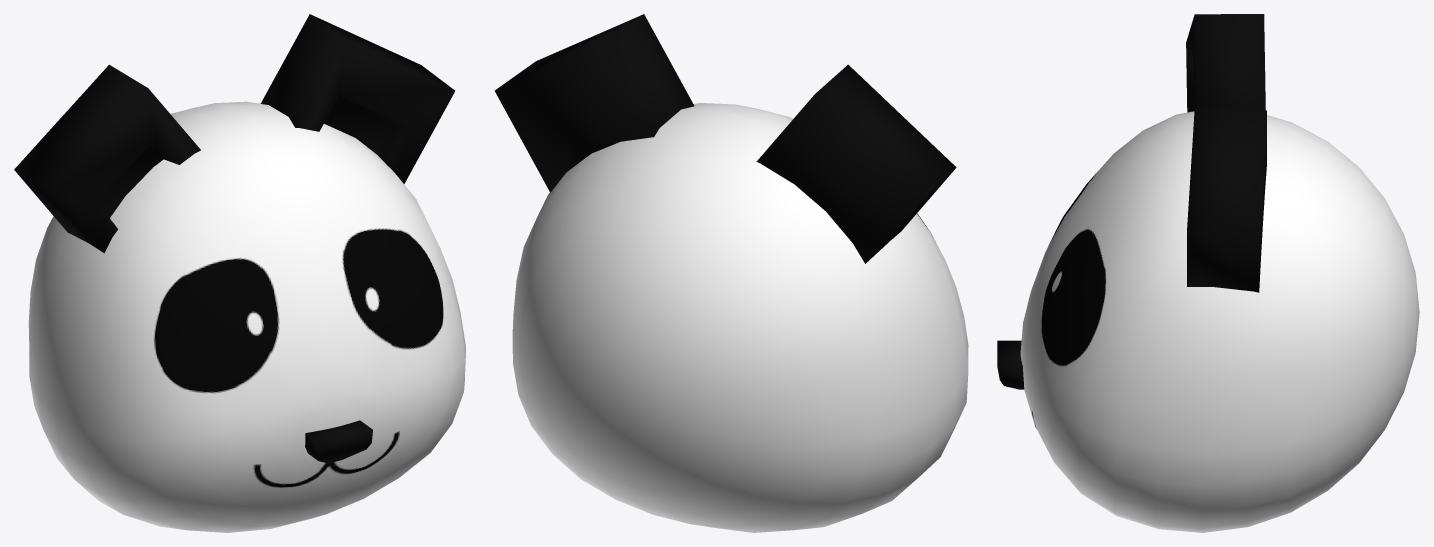
Rendered from panda_happy.gltf.
The picture shows the model from 3 angles, left to right: view 1: azimuth 30°, elevation 25°; view 2: azimuth 150°, elevation 25°; view 3: azimuth 270°, elevation 25°; orthographic projection. The views are drawn at different scales.
Parts seen in each view (by area): view 1: Sphere.056, Cube.150, Cube.149, Cube.148; view 2: Sphere.056, Cube.150, Cube.149; view 3: Sphere.056, Cube.149, Cube.150, Cube.148.
Part boxes in pixels (x1=…): Sphere.056: x1=28, y1=101, x2=465, y2=532; Cube.150: x1=14, y1=64, x2=200, y2=253; Cube.149: x1=260, y1=14, x2=454, y2=183; Cube.148: x1=305, y1=420, x2=372, y2=463; Sphere.056: x1=512, y1=103, x2=968, y2=532; Cube.150: x1=756, y1=64, x2=956, y2=263; Cube.149: x1=494, y1=14, x2=694, y2=192; Sphere.056: x1=1020, y1=111, x2=1419, y2=532; Cube.149: x1=1187, y1=107, x2=1266, y2=292; Cube.150: x1=1186, y1=14, x2=1265, y2=112; Cube.148: x1=997, y1=340, x2=1024, y2=389.
Size of the model in its own units: 1.44 by 1.5 by 1.31.
Materials: 2 (1 with a texture image).
